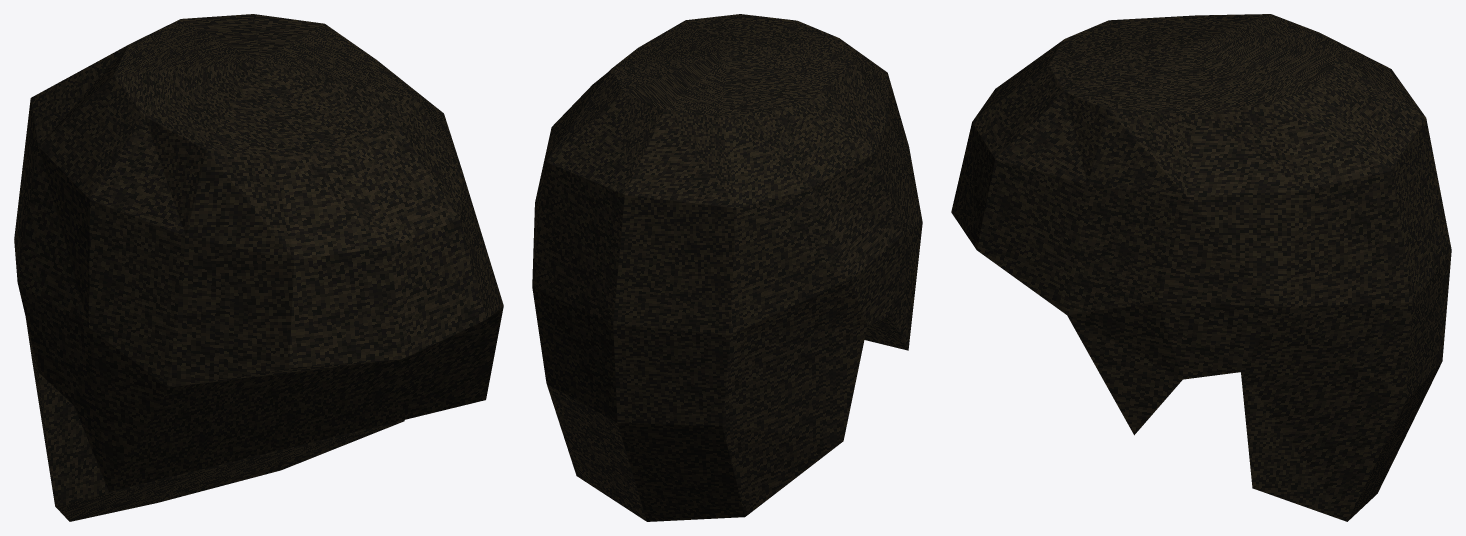
File: medium01.fbx
3 renders of one model, left to right at view 1: azimuth 30°, elevation 25°; view 2: azimuth 150°, elevation 25°; view 3: azimuth 270°, elevation 25°, orthographic. The views are drawn at different scales.
Parts seen in each view (by area): view 1: obj_local_medium01; view 2: obj_local_medium01; view 3: obj_local_medium01.
Part boxes in pixels (left/top/right/bottom): obj_local_medium01: left=14, top=14, right=503, bottom=521; obj_local_medium01: left=532, top=14, right=922, bottom=521; obj_local_medium01: left=951, top=14, right=1451, bottom=521.
Size of the model in its own units: 0.172 by 0.215 by 0.216.
